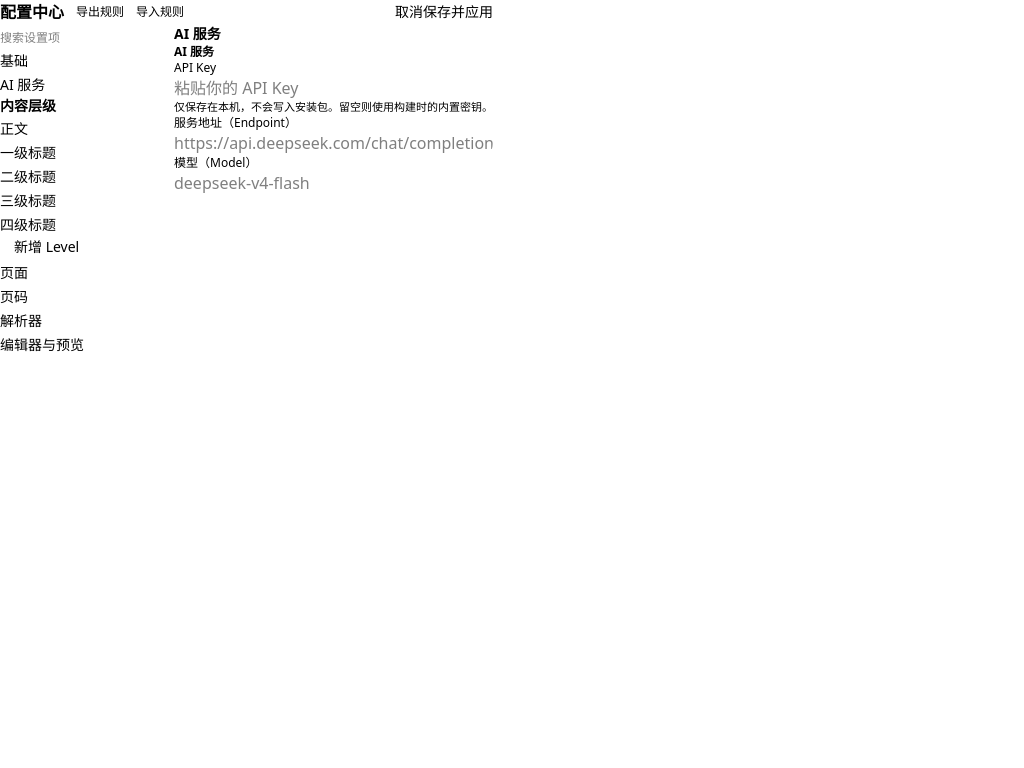
Test: SettingsOverlay unsaved-changes guard › keep editing keeps the overlay open
This screenshot has width=1024, height=768.
Click the button "编辑器与预览": (87, 345) [0,335,174,355]
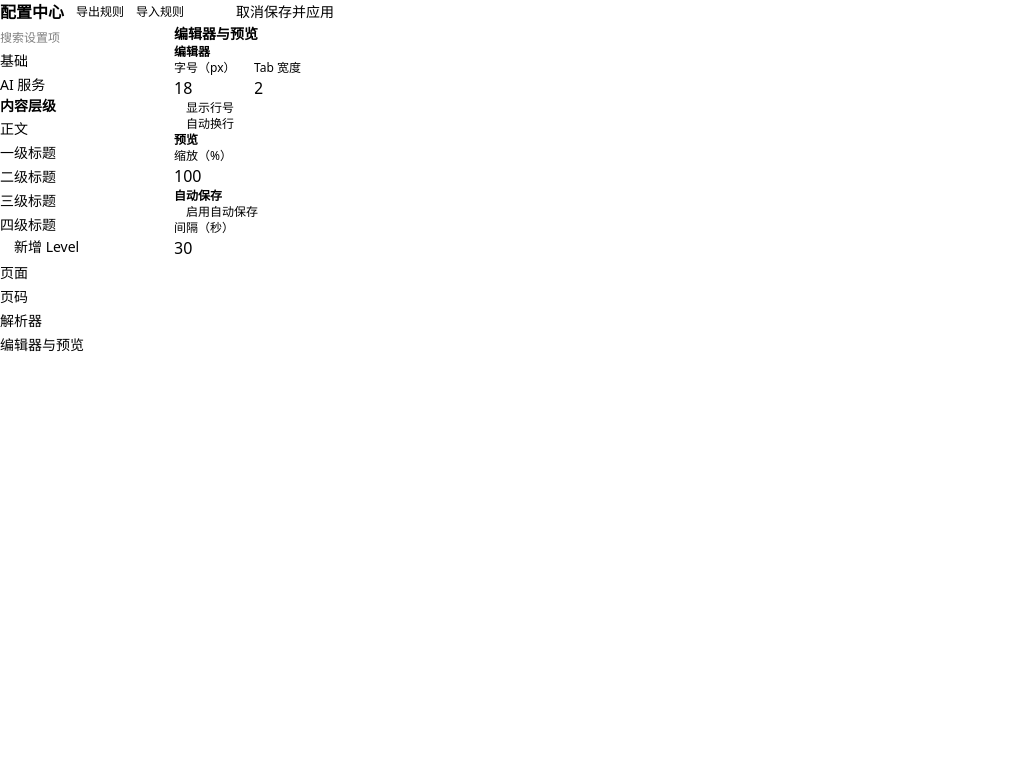
Replace the text in the number field showing "18" with "24": (214, 88) [174,76,254,100]
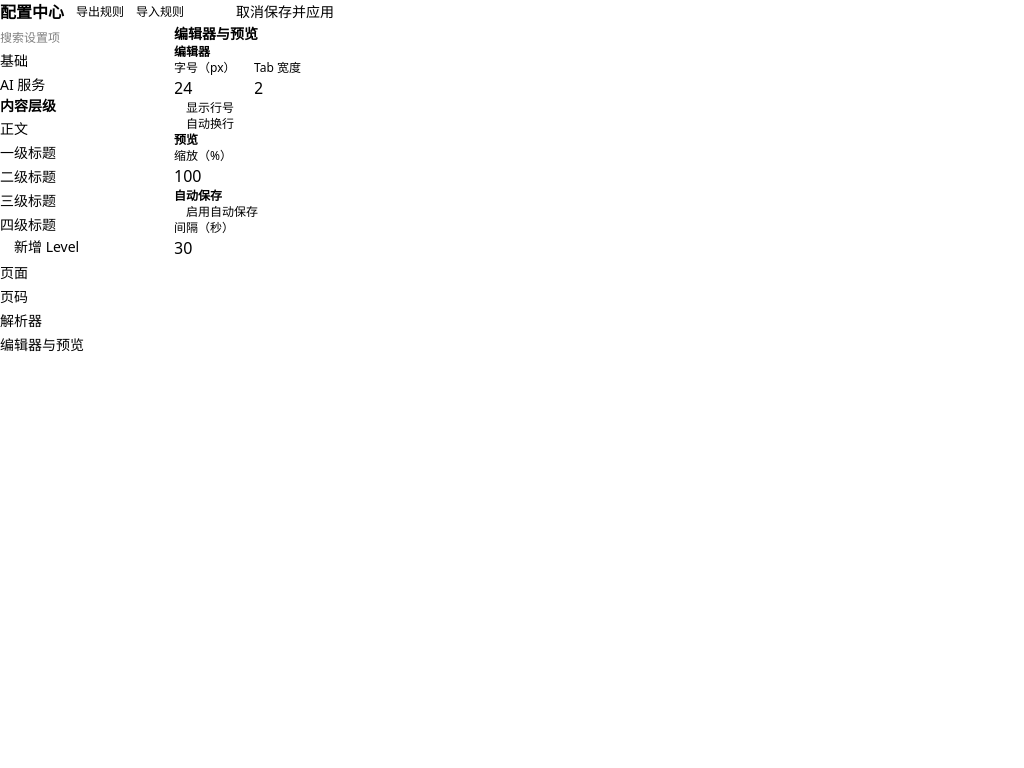
Click the button "取消": (250, 12) [236,2,264,22]
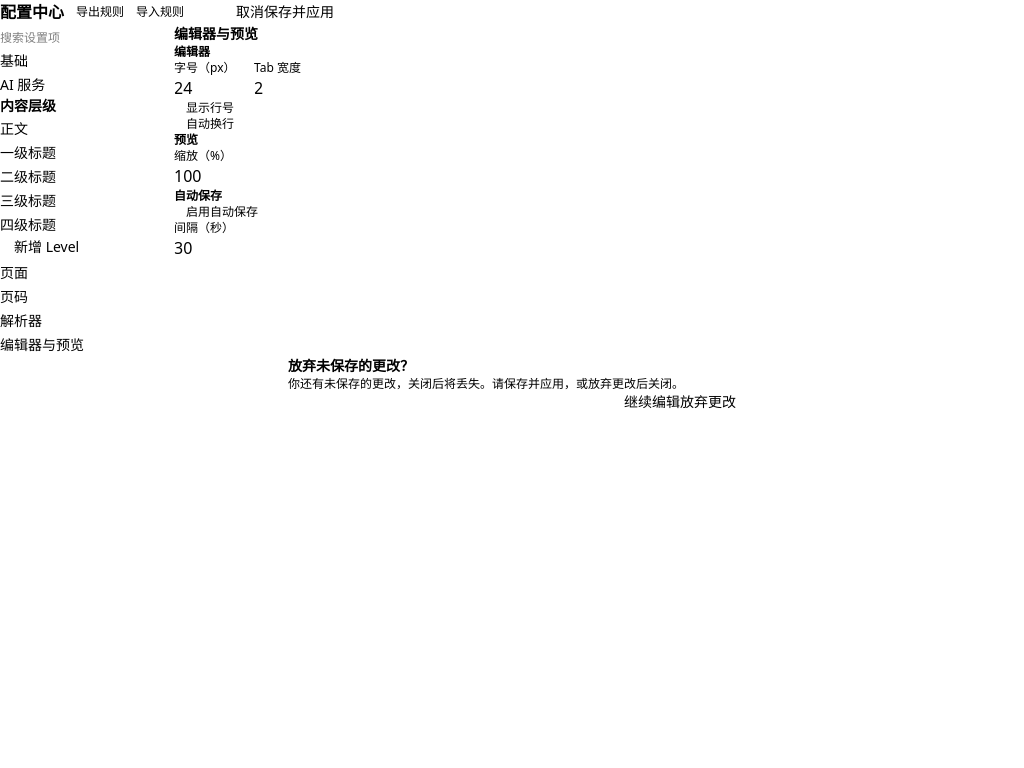
Click the button "继续编辑": (652, 402) [624,392,680,412]
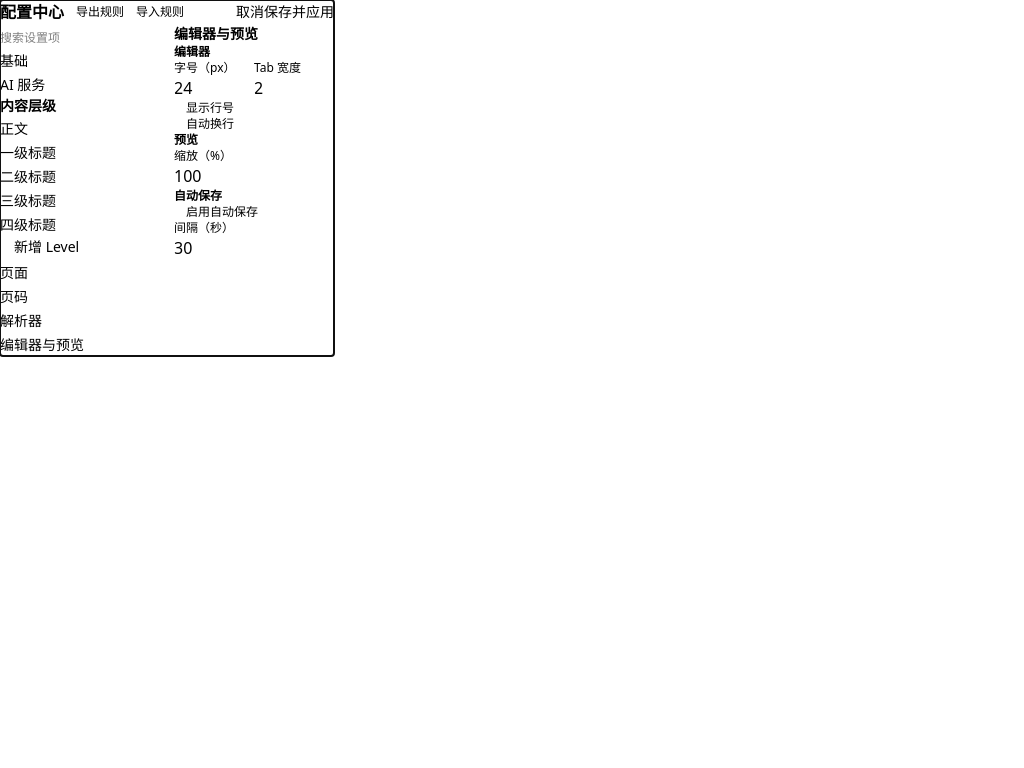
Expected: the heading "放弃未保存的更改？" is gone
